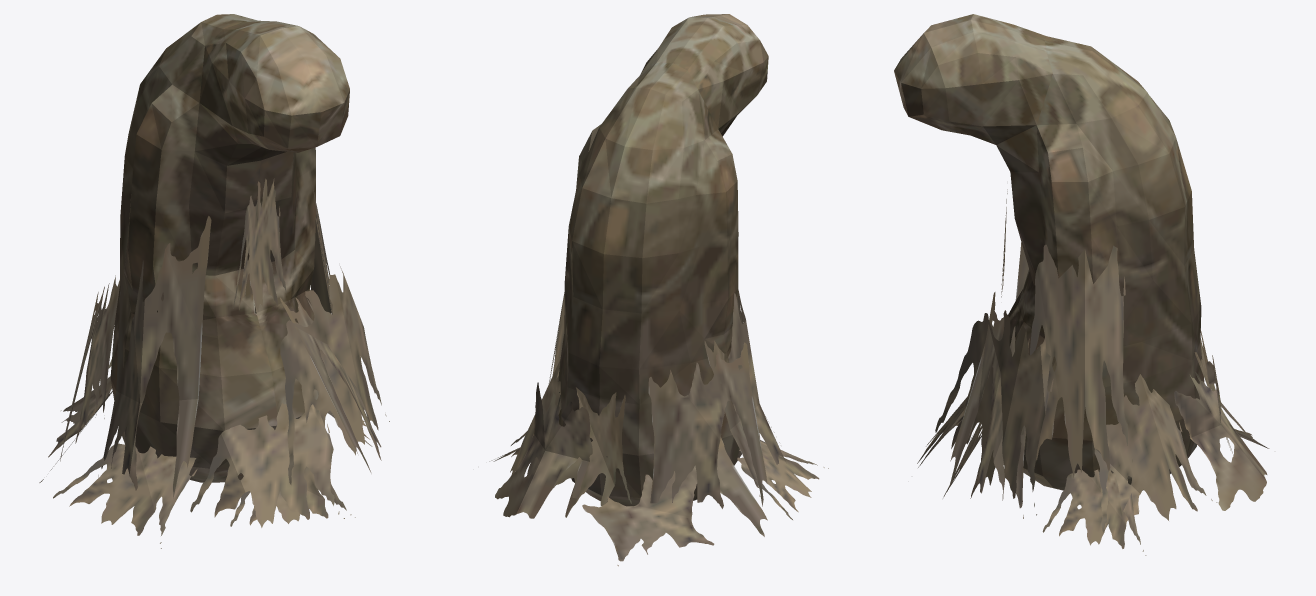
Rendered from webbed_victims_03.fbx.
The picture shows the model from 3 angles, left to right: view 1: azimuth 30°, elevation 25°; view 2: azimuth 150°, elevation 25°; view 3: azimuth 270°, elevation 25°; orthographic projection. The views are drawn at different scales.
Visible parts, largest first — view 1: obj0.491; view 2: obj0.491; view 3: obj0.491.
Boxes of the visible parts, bbox=[...] form: obj0.491: bbox=[39, 14, 389, 548]; obj0.491: bbox=[489, 14, 828, 566]; obj0.491: bbox=[894, 14, 1269, 555].
Size of the model in its own units: 1.36 by 1.66 by 1.32.
